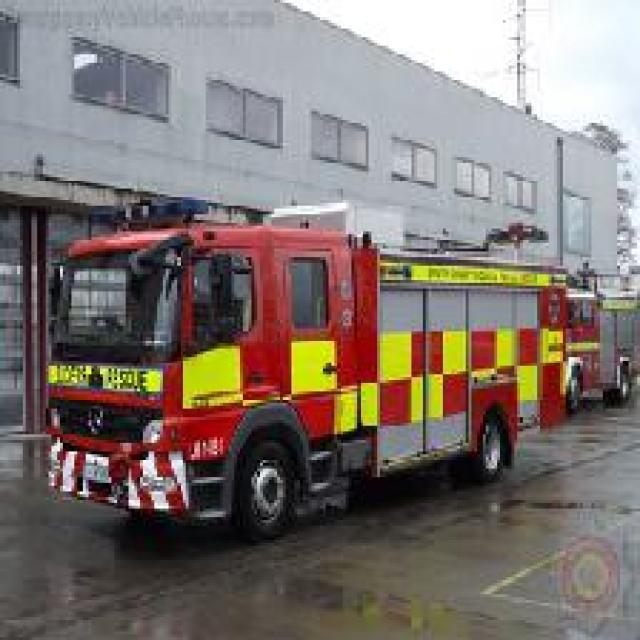emergency: (37, 197, 637, 543)
